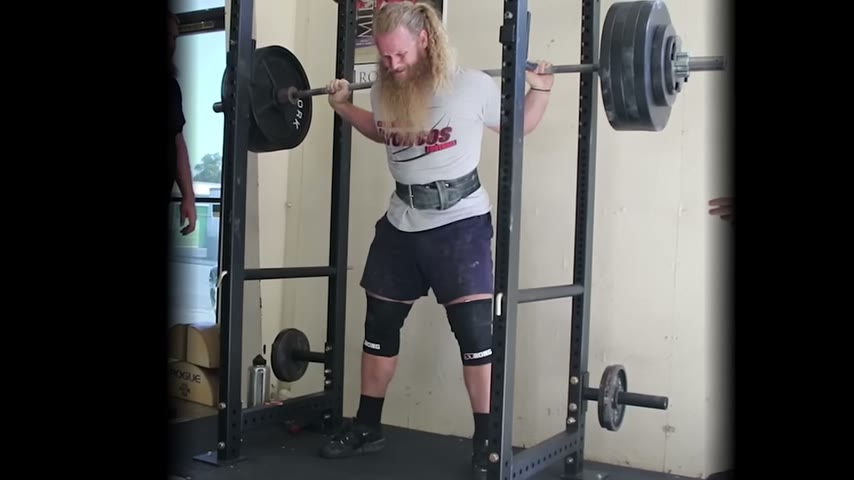barbell_plate_side: (228, 37, 302, 158), (638, 2, 705, 132)
